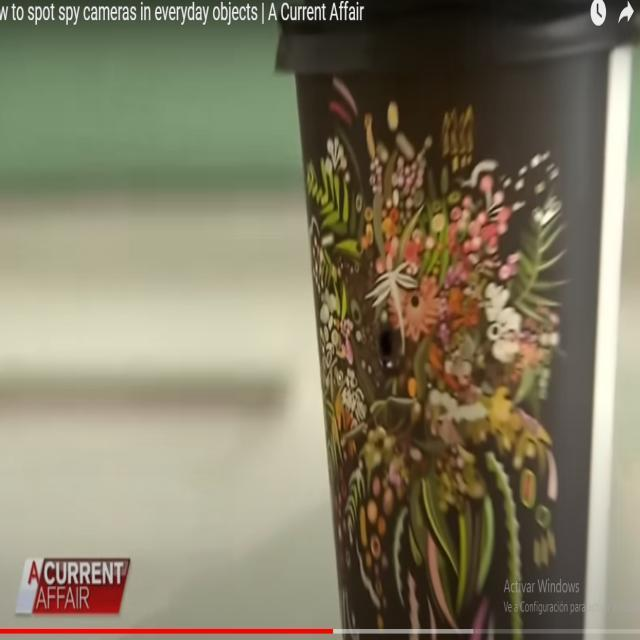hidden camera: (377, 328, 394, 363)
